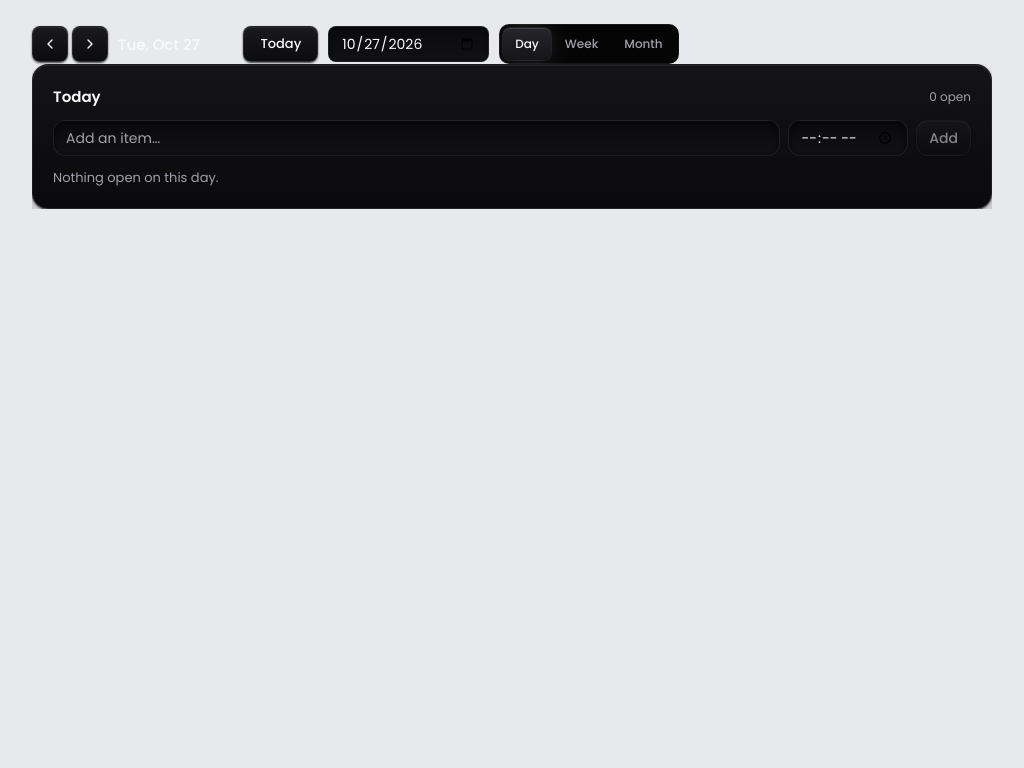
Test: TodoScreen week view › renders seven day rows with a button to open each day
The image size is (1024, 768).
Click the button "Week".
click(582, 44)  # box top-left (553, 28), bottom-right (610, 60)
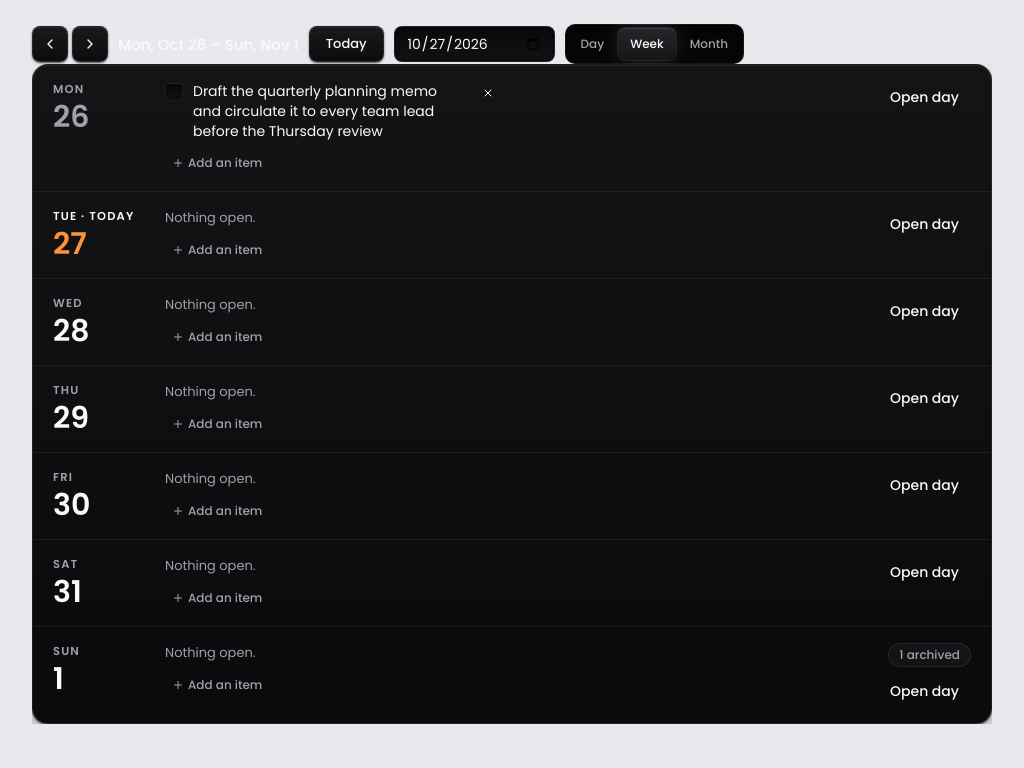
Check: the number of buttons "Mon 26" is 7
